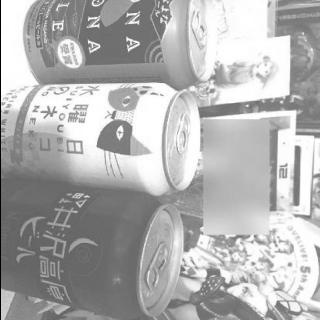alumunium_can: (0, 186, 182, 320), (1, 81, 200, 197), (23, 0, 217, 90)
